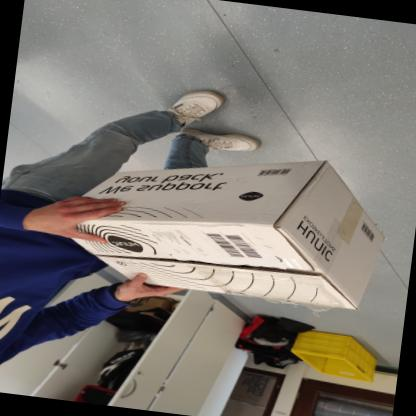box: (46, 127, 408, 321)
